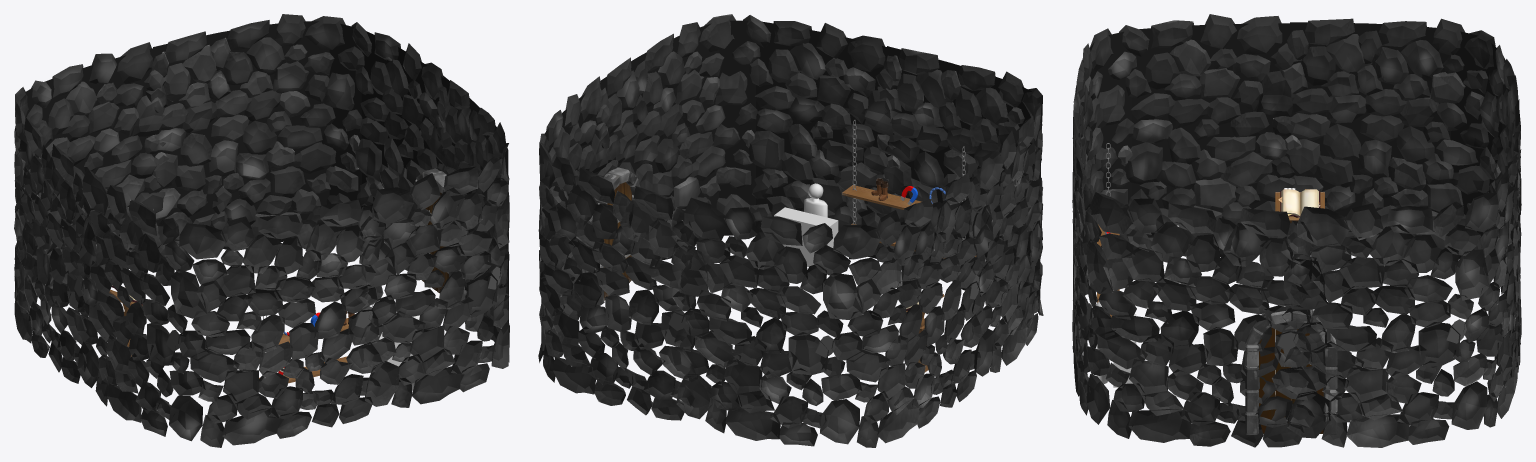
The model's file is Loja.fbx.
3 views of the same model, side by side, from view 1: azimuth 30°, elevation 25°; view 2: azimuth 150°, elevation 25°; view 3: azimuth 270°, elevation 25° (orthographic). The views are drawn at different scales.
Visible parts, largest first — view 1: Parede, Porta; view 2: Parede, Estante, MesaRonaldo, Porta, RonaldoProvisório; view 3: Parede, Porta, Livro.
Boxes of the visible parts, x1,y1,x2,y2 form: Parede: [14, 14, 509, 447]; Porta: [412, 168, 466, 300]; Parede: [538, 14, 1043, 447]; Estante: [842, 120, 976, 258]; MesaRonaldo: [774, 207, 838, 266]; Porta: [585, 167, 640, 305]; RonaldoProvisório: [804, 183, 827, 217]; Parede: [1072, 14, 1521, 447]; Porta: [1245, 309, 1337, 434]; Livro: [1278, 189, 1320, 217].
Size of the model in its own units: 906 by 539 by 892.
